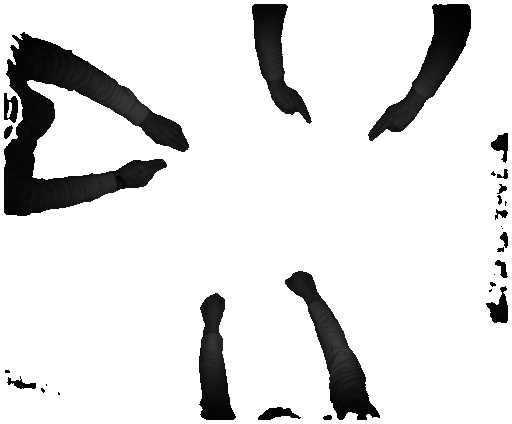fist: (280, 264, 318, 304), (200, 288, 231, 327)
hand: (148, 111, 191, 155), (368, 102, 414, 143), (270, 84, 311, 127), (122, 158, 167, 191)
